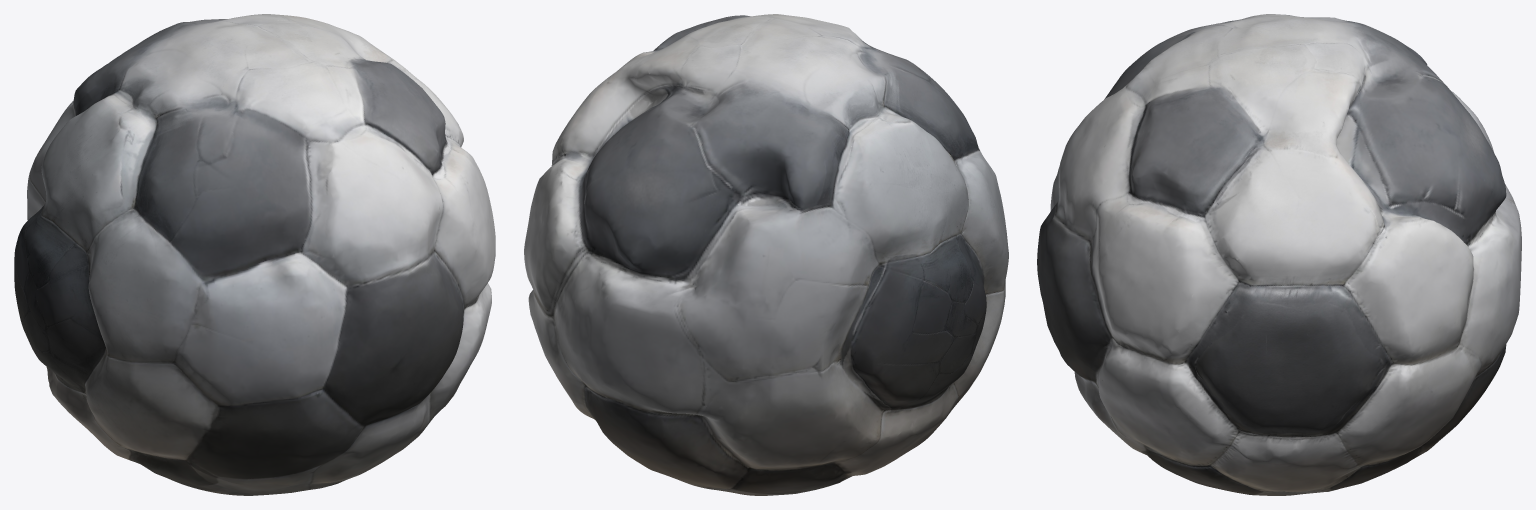
The picture shows the model from 3 angles, left to right: view 1: azimuth 30°, elevation 25°; view 2: azimuth 150°, elevation 25°; view 3: azimuth 270°, elevation 25°; orthographic projection.
Bounding box in the file's own units: 1.19 × 1.19 × 1.2.
Materials: 1 (1 with a texture image).
